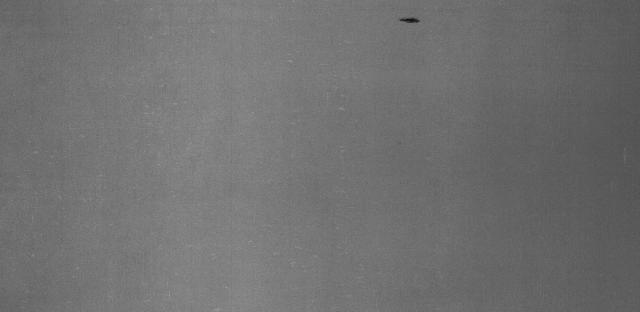inclusion: (396, 10, 430, 33)
